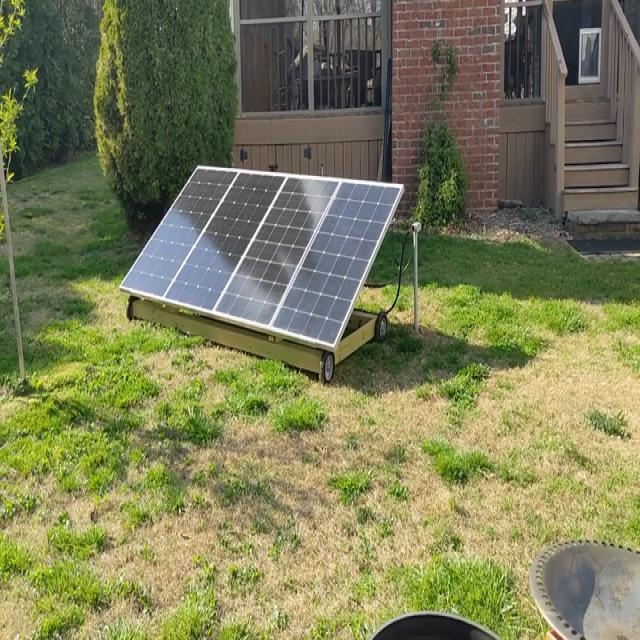Normal Solar Panel: (119, 167, 403, 349)
